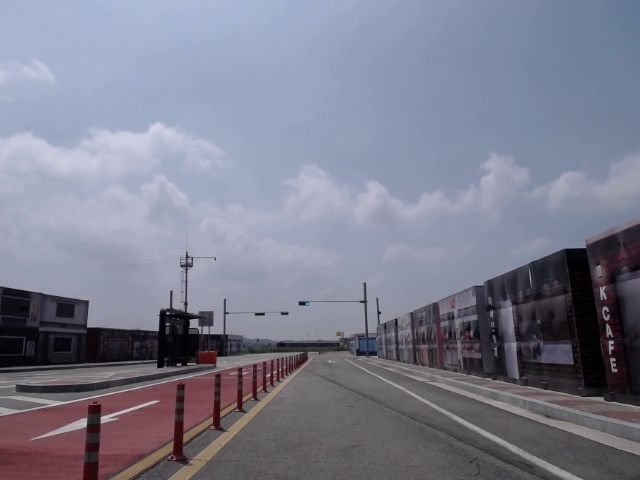green_3: (298, 301, 310, 306)
